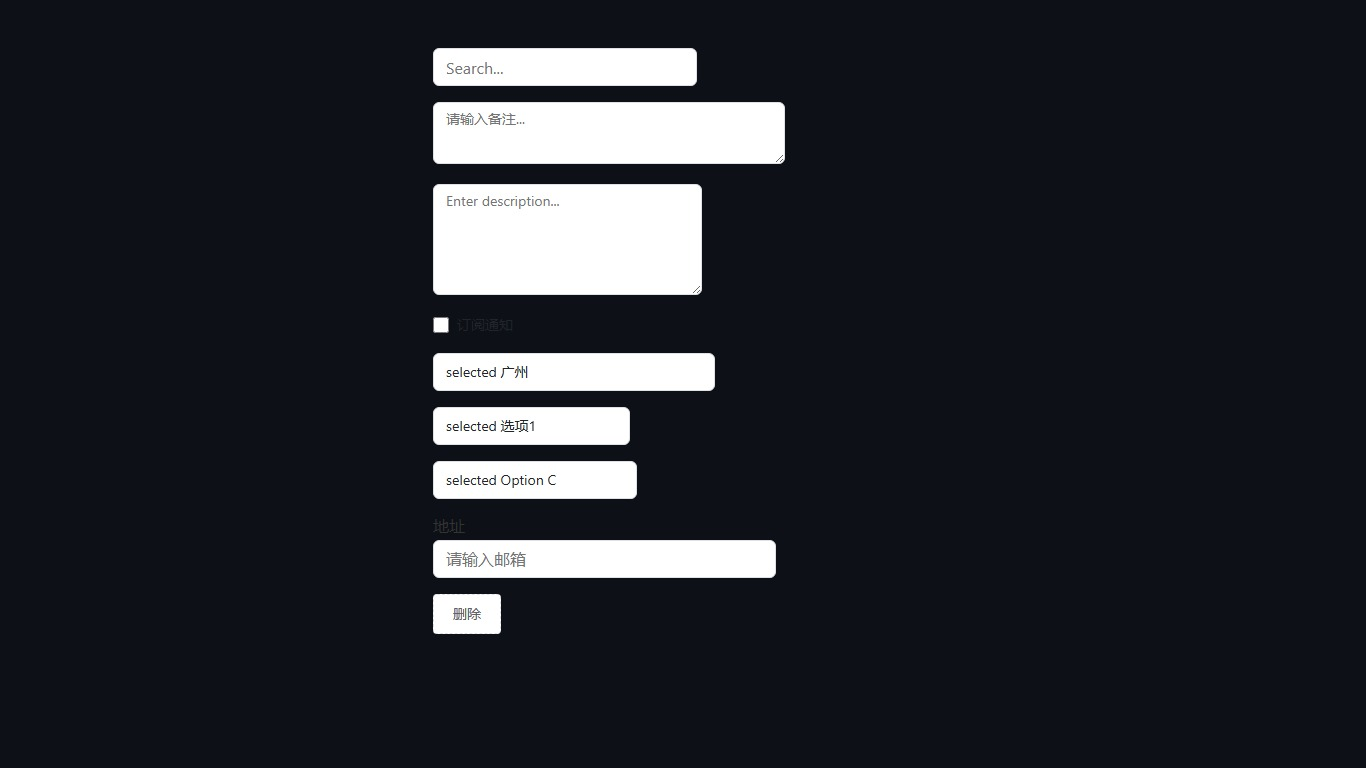button: (433, 594, 501, 633)
checkbox: (433, 317, 449, 332)
icon: (457, 315, 513, 334)
input: (433, 540, 776, 578), (433, 48, 697, 86)
radio: (433, 315, 513, 334)
select: (433, 353, 715, 390), (433, 461, 637, 498), (433, 406, 630, 444)
textarea: (433, 184, 702, 295), (433, 102, 785, 164)
